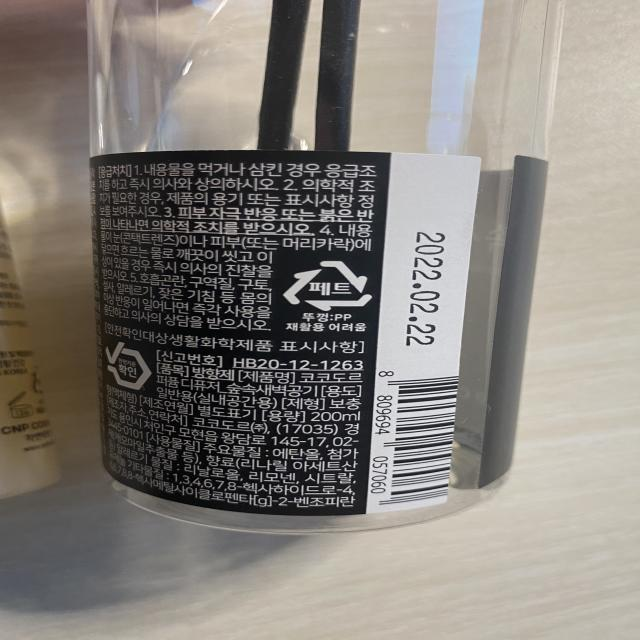PET: (280, 254, 379, 316)
